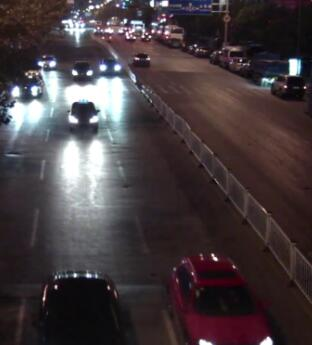bus: (158, 23, 184, 48), (150, 20, 162, 44), (129, 18, 144, 34)
car: (162, 251, 275, 343), (36, 266, 126, 343), (249, 48, 289, 85), (65, 98, 101, 132), (269, 72, 308, 101), (10, 70, 43, 102), (216, 44, 242, 67), (70, 60, 93, 81), (98, 56, 122, 76), (226, 54, 248, 73), (36, 53, 58, 70), (132, 51, 151, 67), (190, 42, 207, 56), (207, 49, 219, 66), (140, 30, 153, 42), (124, 31, 137, 42), (99, 32, 113, 42), (92, 24, 104, 34), (118, 25, 129, 35)
